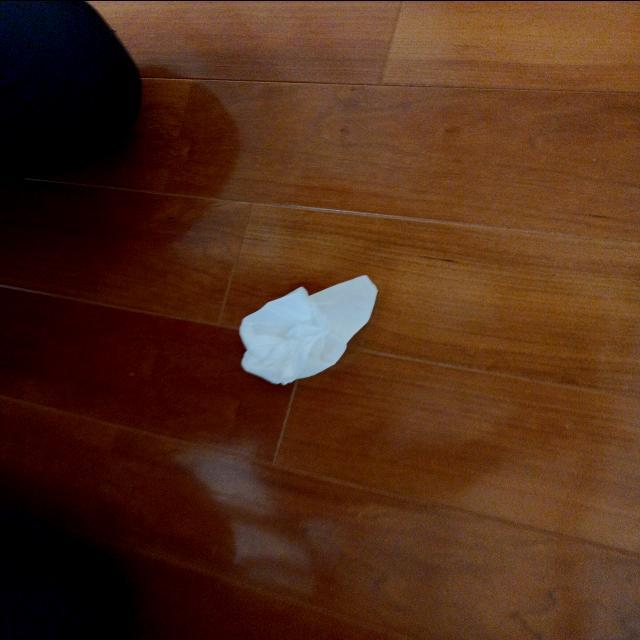Paper: (227, 266, 391, 388)
